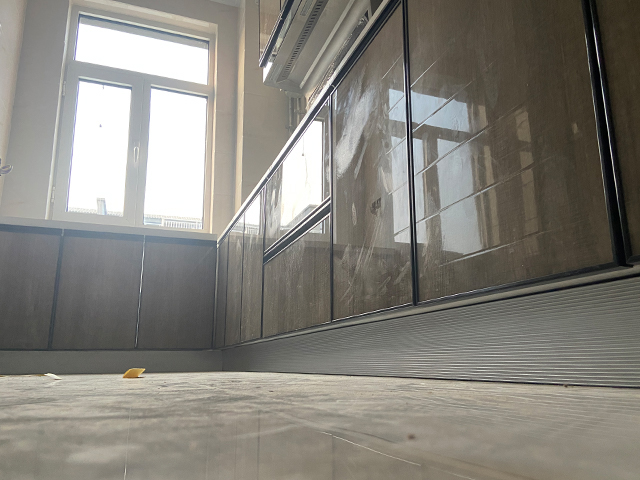cabinet: (213, 3, 639, 393), (1, 227, 215, 373)
